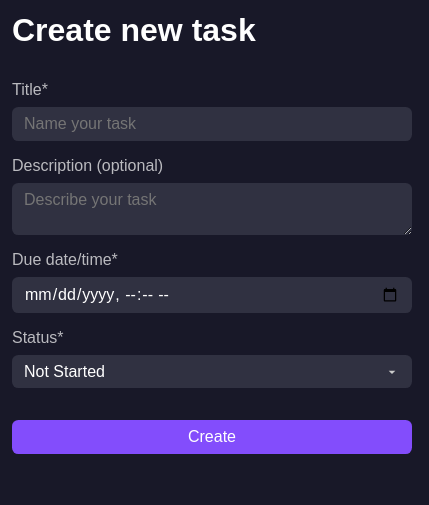
Scenario: CreateForm › should display error message when there is an error during task creation
Type "Test Task" into the field with test id "task-title-input" at (212, 124), box [12, 107, 412, 141]
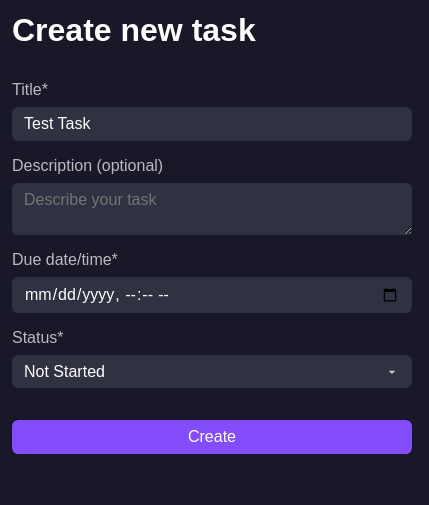
Type "2025-12-31T12:00" into the field with test id "task-due-input" at (212, 295), box [12, 277, 412, 313]
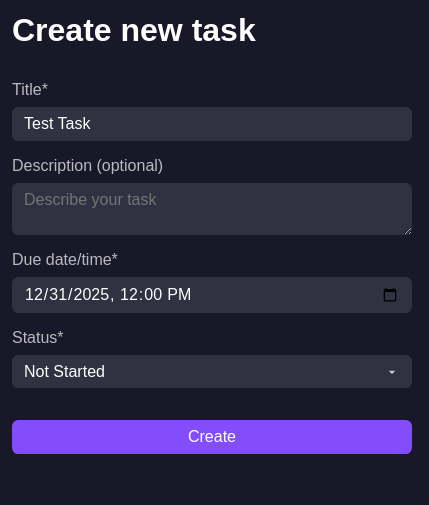
Type "Task description" into the text box with test id "task-description-input" at (212, 209), box [12, 183, 412, 235]
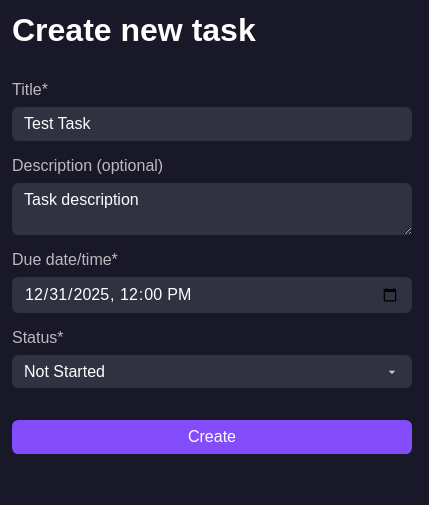
Click the button with test id "task-create-button" at (212, 437), box [12, 420, 412, 454]
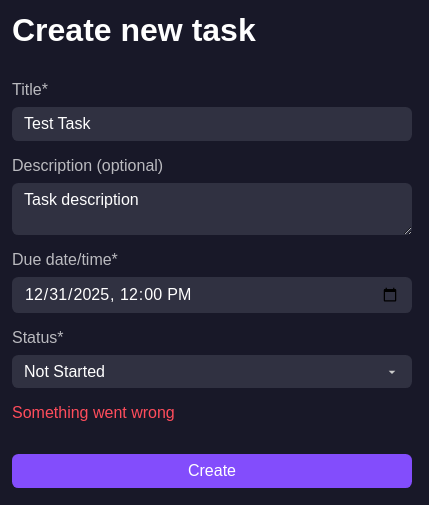
Expected: the text with test id "task-error" reads "Something went wrong", [12, 404, 175, 421]
